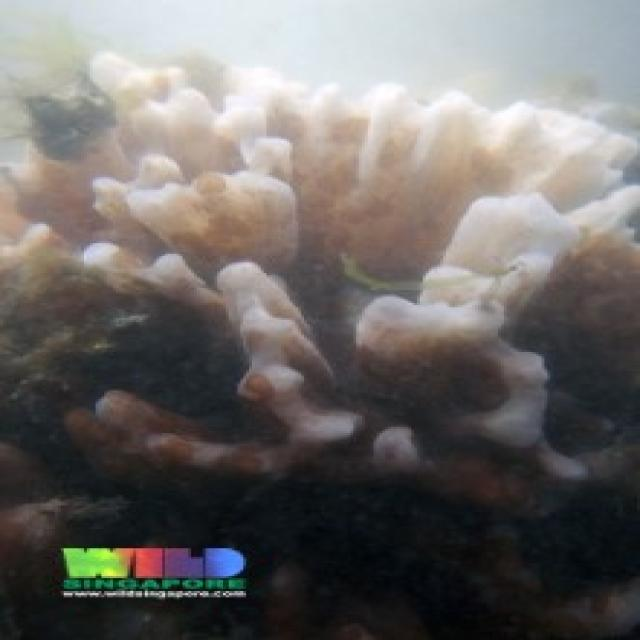Bleached: (357, 195, 586, 477), (238, 69, 618, 210), (183, 263, 363, 445), (94, 155, 293, 251), (91, 52, 236, 170)
